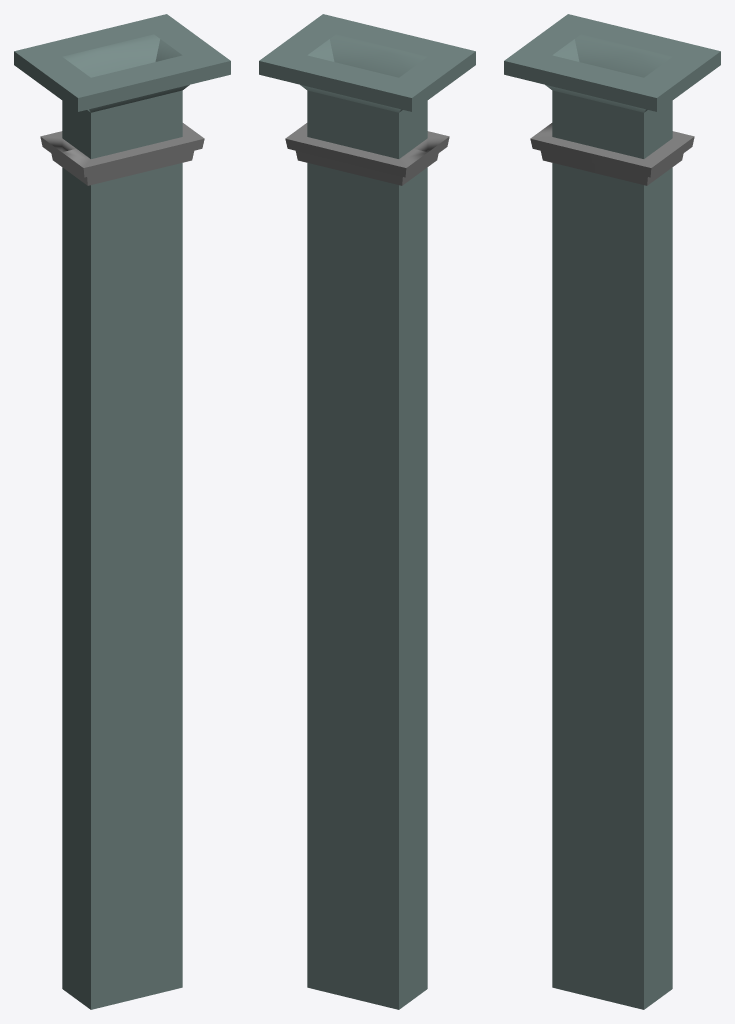
File: SM_Build01_Column_04.fbx
The picture shows the model from 3 angles, left to right: view 1: azimuth 30°, elevation 25°; view 2: azimuth 150°, elevation 25°; view 3: azimuth 330°, elevation 25°; orthographic projection.
Parts seen in each view (by area): view 1: SM_Build01_Column_04; view 2: SM_Build01_Column_04; view 3: SM_Build01_Column_04.
Part boxes in pixels (x1=…): SM_Build01_Column_04: x1=14, y1=14, x2=230, y2=1009; SM_Build01_Column_04: x1=259, y1=14, x2=475, y2=1009; SM_Build01_Column_04: x1=504, y1=14, x2=720, y2=1009.
Bounding box in the file's own units: 83.2 × 485 × 60.36.
